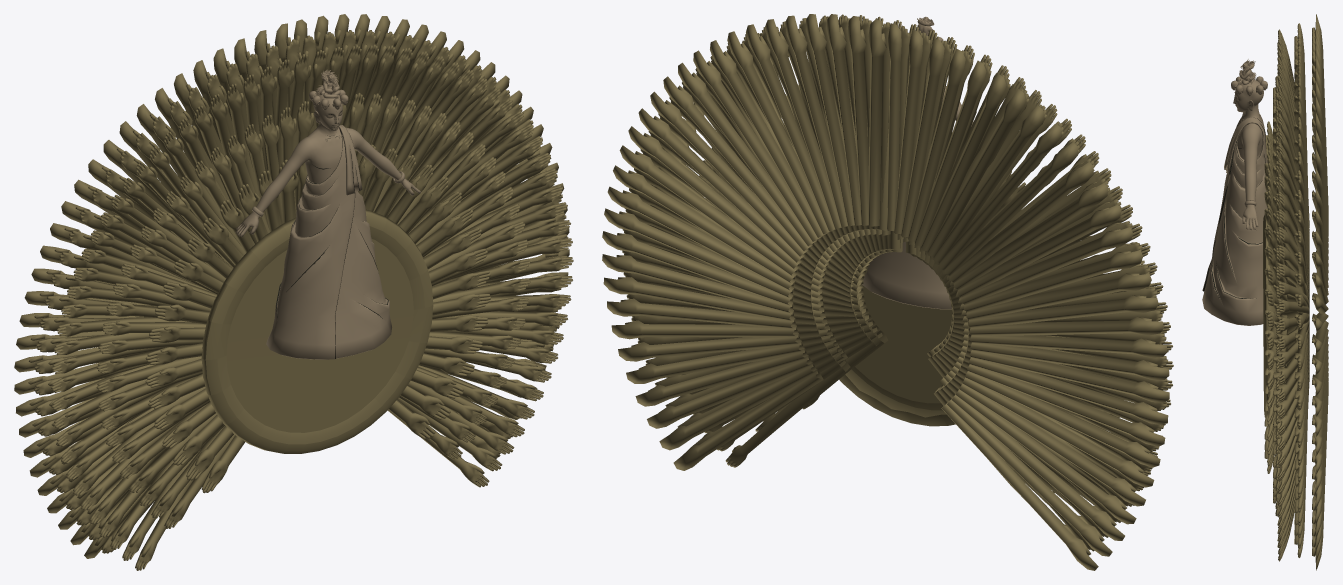
File: thousand hands.glb
3 views of the same model, side by side, from view 1: azimuth 30°, elevation 25°; view 2: azimuth 150°, elevation 25°; view 3: azimuth 270°, elevation 25° (orthographic). The views are drawn at different scales.
Visible parts, largest first — view 1: Object_8, Object_7, Object_6, Object_2; view 2: Object_8, Object_6, Object_7, Object_2; view 3: Object_8, Object_2, Object_7, Object_6, Object_4, Object_3, Object_5.
Part boxes in pixels (<box>): Object_8: <box>14,14,573,570</box>; Object_7: <box>96,92,530,528</box>; Object_6: <box>201,209,433,453</box>; Object_2: <box>235,121,420,359</box>; Object_8: <box>602,14,1173,570</box>; Object_6: <box>839,266,955,426</box>; Object_7: <box>699,84,1119,504</box>; Object_2: <box>862,86,1011,309</box>; Object_8: <box>1277,14,1328,570</box>; Object_2: <box>1202,104,1267,325</box>; Object_7: <box>1264,75,1287,516</box>; Object_6: <box>1263,208,1275,417</box>; Object_4: <box>1233,80,1263,112</box>; Object_3: <box>1231,76,1267,96</box>; Object_5: <box>1238,59,1256,84</box>.
Size of the model in its own units: 17.17 by 14.54 by 3.75.
Materials: 2 (1 with a texture image).
